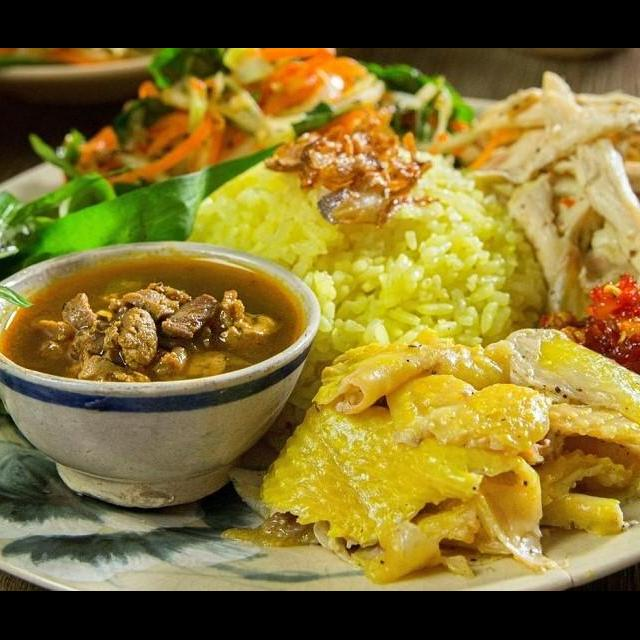com: (174, 136, 554, 408)
com ga: (0, 115, 640, 591)
rau ram: (5, 138, 286, 278)
thit ga: (255, 321, 640, 589)
